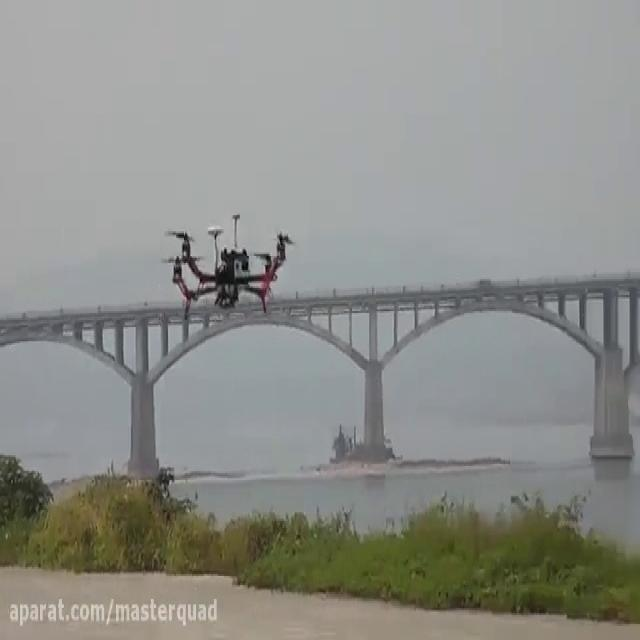drone: (155, 208, 298, 320)
